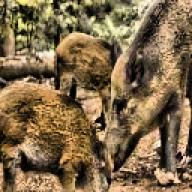boar: (99, 0, 192, 180), (0, 79, 112, 192)
